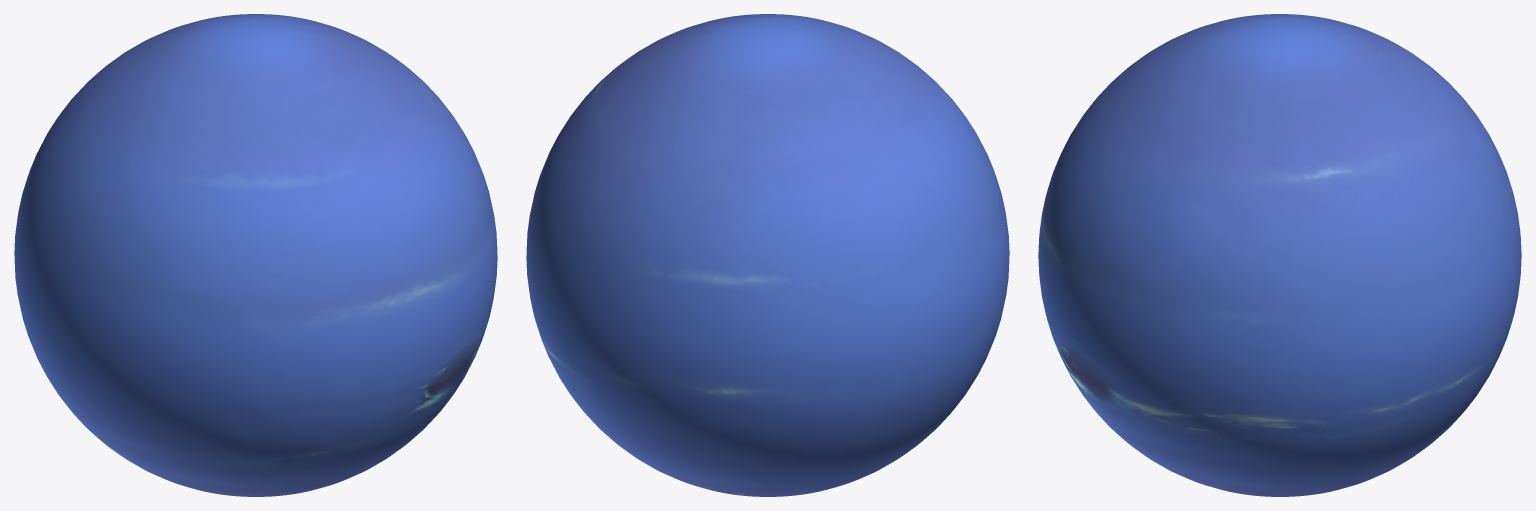
File: Neptune-v1.glb
3 views of the same model, side by side, from view 1: azimuth 30°, elevation 25°; view 2: azimuth 150°, elevation 25°; view 3: azimuth 270°, elevation 25° (orthographic).
Visible parts, largest first — view 1: Sphere; view 2: Sphere; view 3: Sphere.
Part boxes in pixels (<box>): Sphere: <box>14,14,497,496</box>; Sphere: <box>526,14,1009,496</box>; Sphere: <box>1038,14,1521,496</box>.
Size of the model in its own units: 8 by 8 by 8.
1 material, 1 textured.
